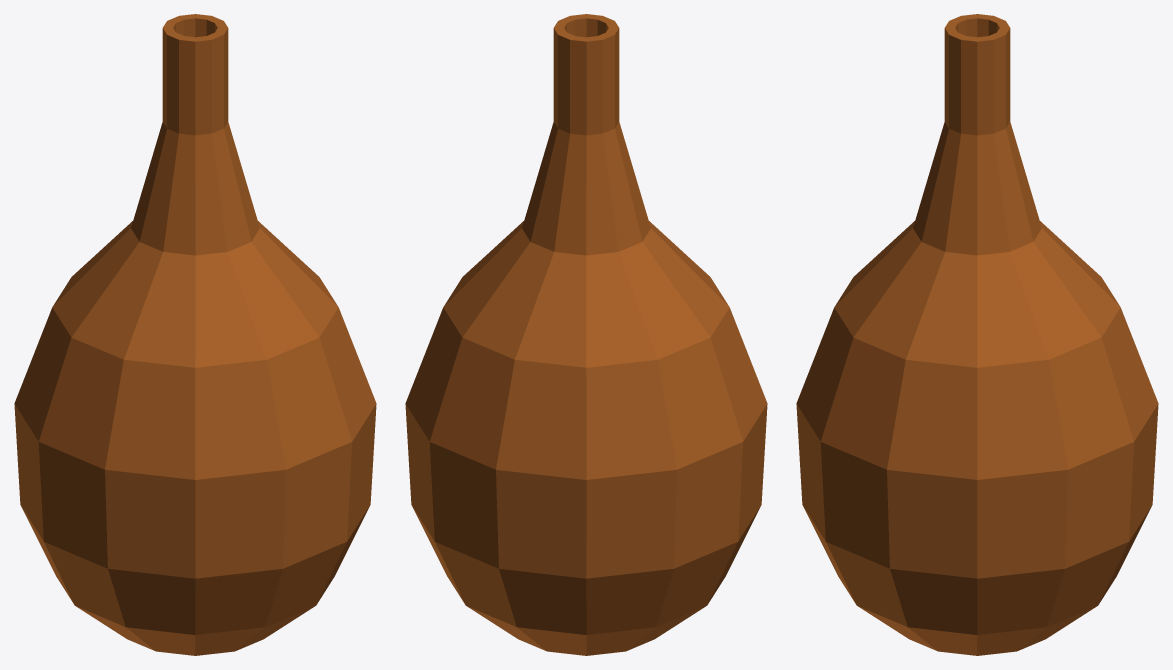
The model's file is SM_pottery_012.FBX.
3 views of the same model, side by side, from view 1: azimuth 30°, elevation 25°; view 2: azimuth 150°, elevation 25°; view 3: azimuth 270°, elevation 25° (orthographic).
Parts seen in each view (by area): view 1: Object096; view 2: Object096; view 3: Object096.
Part boxes in pixels (bbox=[...]): Object096: bbox=[14, 14, 376, 655]; Object096: bbox=[405, 14, 767, 655]; Object096: bbox=[796, 14, 1158, 655].
Size of the model in its own units: 46.64 by 84.53 by 46.64.
